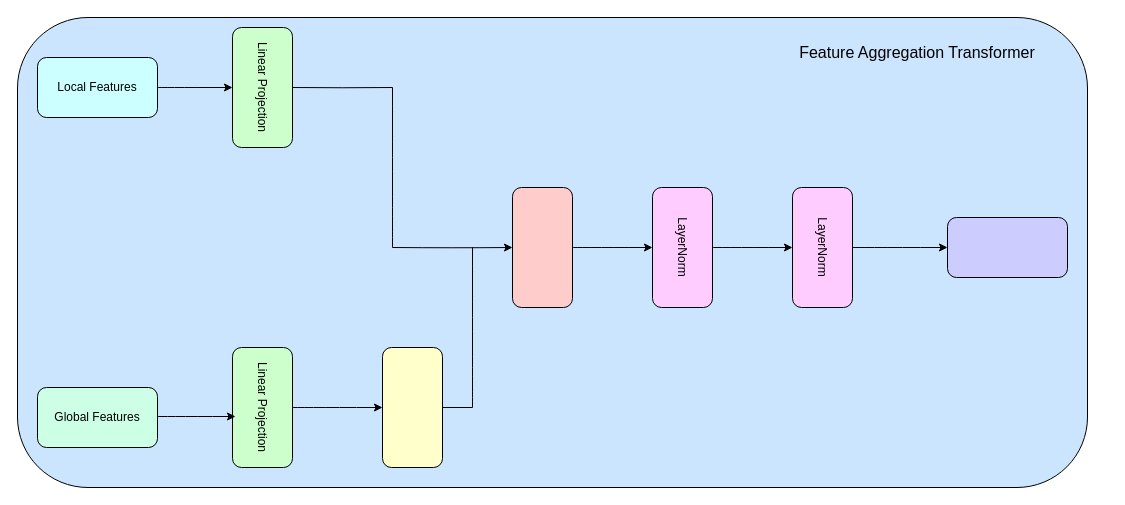
The diagram is 1125 pixels wide and 505 high, and some of its shapes have lost their labels. Here are the shapes that lost their labels. From the top down, the centre of each, then its label:
point (542, 247): Cross-Attention
point (1007, 247): Aggregated Features
point (412, 407): Attentive Pooling
